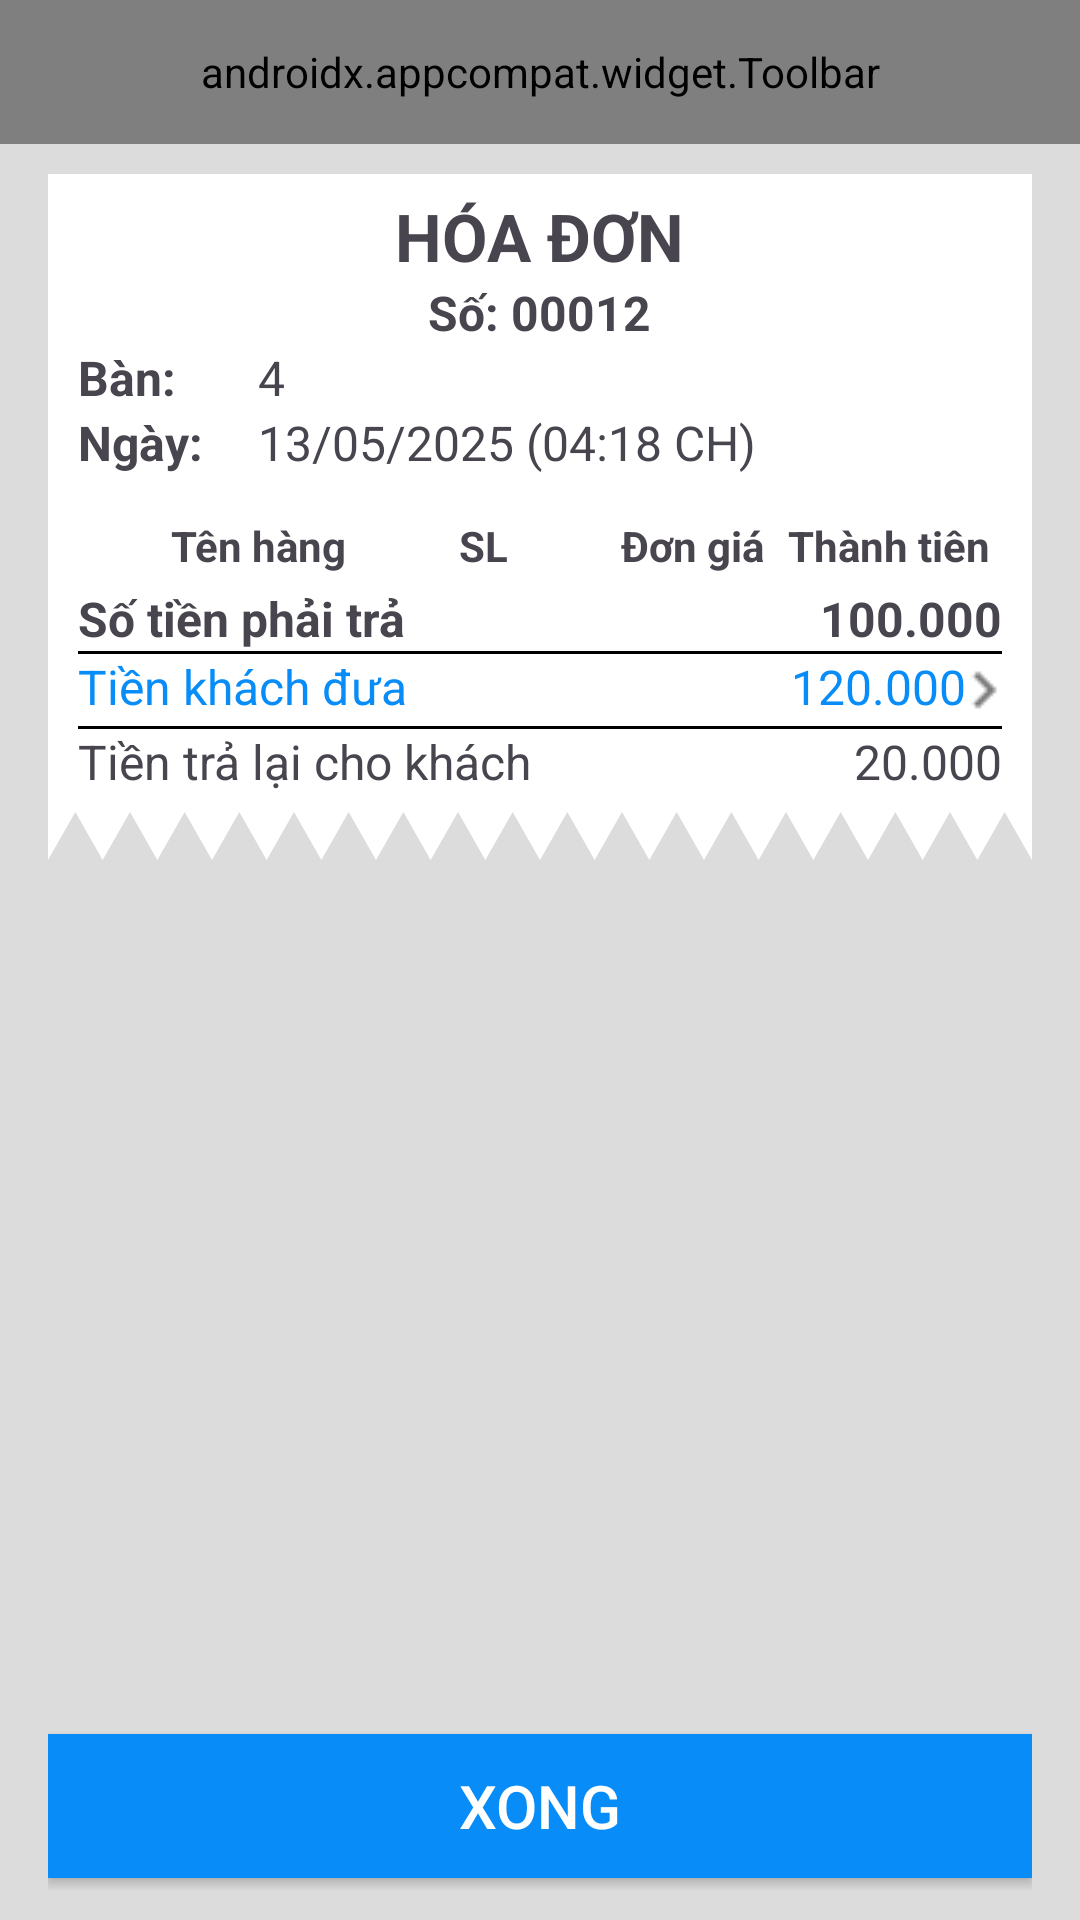

Named icons in this screenshot (1080px x 1920px) and their centers, point (x, y):
arrow right: point (985, 690)
